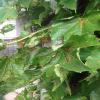grape leaf black rot: (40, 34, 99, 77), (51, 11, 99, 44), (0, 51, 25, 84), (30, 2, 52, 28), (50, 64, 68, 92), (22, 68, 44, 89), (0, 0, 18, 25), (84, 46, 99, 72), (27, 35, 47, 48), (23, 19, 37, 31)
